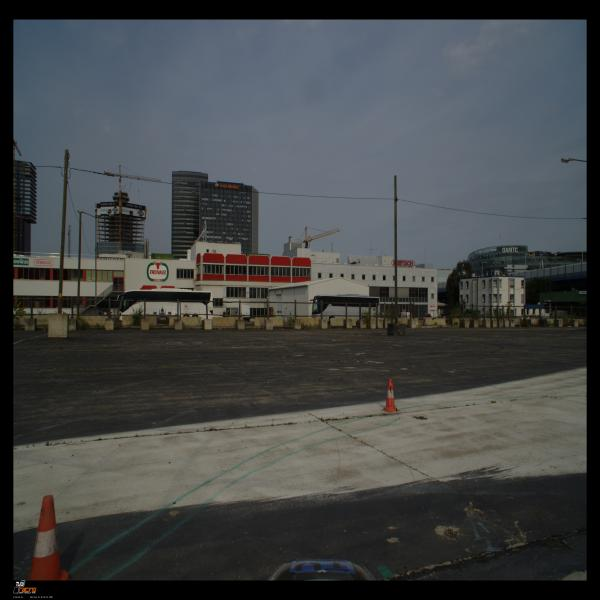orange_cone: (27, 495, 70, 580), (381, 379, 400, 412)
